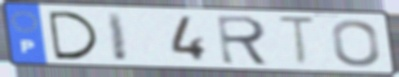4: (169, 15, 210, 64)
D: (45, 9, 103, 61)
I: (104, 11, 131, 63)
O: (329, 18, 382, 69)
R: (214, 14, 274, 67)
T: (275, 14, 320, 69)
